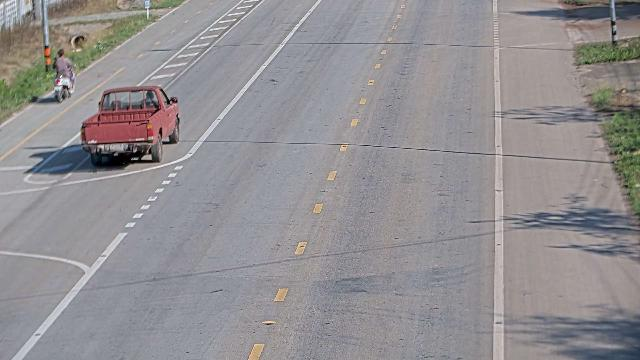pickup-truck: (80, 85, 180, 166)
